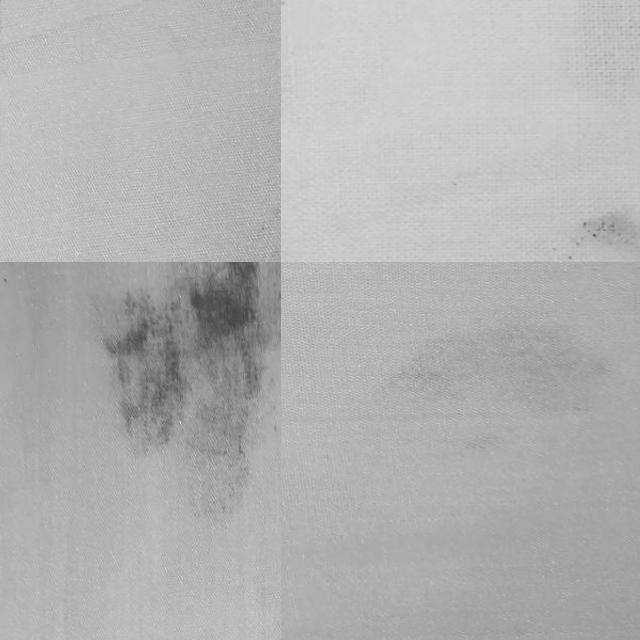Hole: (83, 262, 281, 528), (462, 188, 640, 262)
